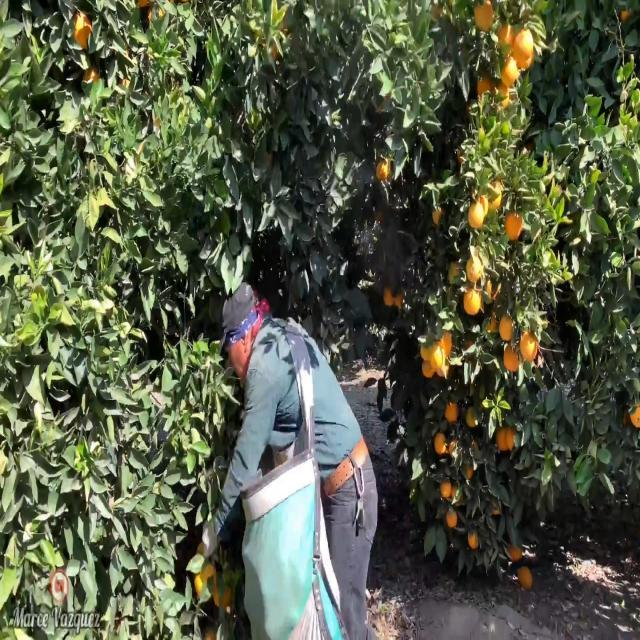Jeruk Sudah Matang: (466, 248, 486, 294), (467, 190, 486, 237), (512, 30, 532, 67), (428, 341, 448, 378), (441, 393, 462, 424), (504, 346, 524, 378), (498, 318, 520, 346), (498, 422, 520, 450), (521, 335, 543, 362), (507, 212, 523, 244), (432, 428, 450, 455), (465, 290, 481, 320), (516, 565, 535, 590), (441, 477, 454, 502), (467, 531, 482, 551), (632, 399, 640, 436), (447, 504, 457, 524)
